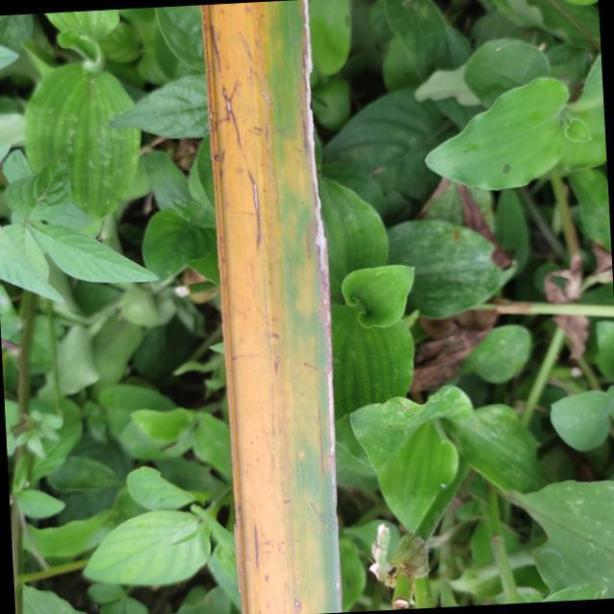Megnesium: (204, 1, 342, 614)
